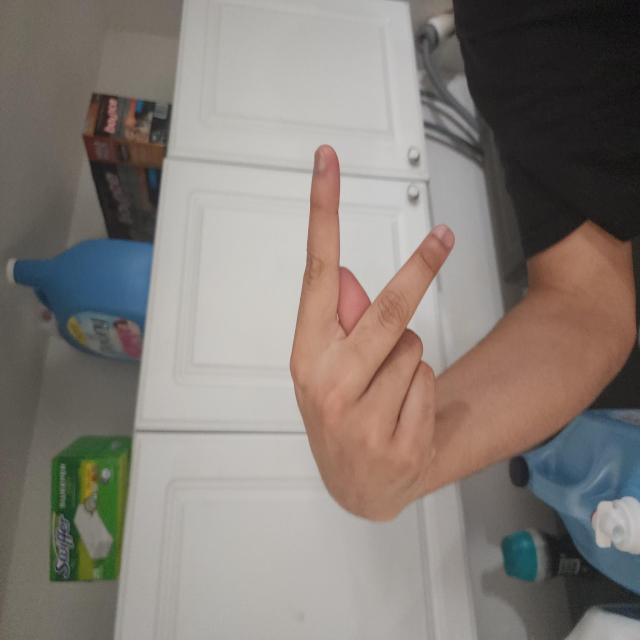P: (86, 380, 375, 610)
